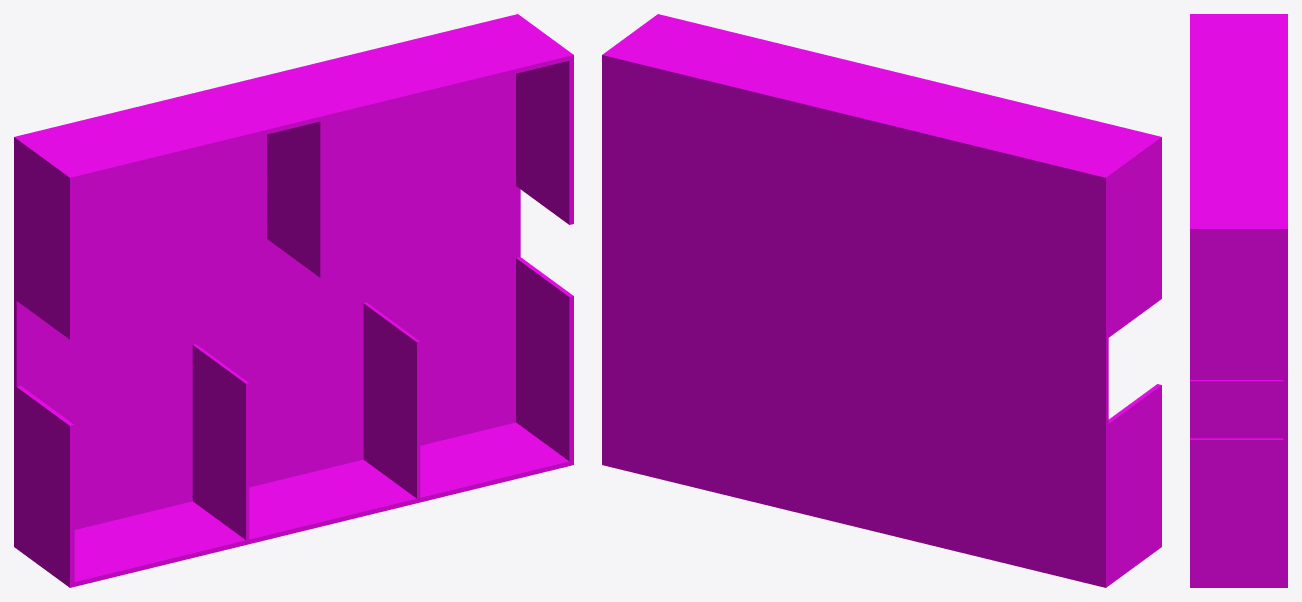
File: PROJECT_Z_Hospital_Wing_Collision_Helpers.glb
3 renders of one model, left to right at view 1: azimuth 30°, elevation 25°; view 2: azimuth 150°, elevation 25°; view 3: azimuth 270°, elevation 25°, orthographic. The views are drawn at different scales.
Parts seen in each view (by area): view 1: UCX_Wing_Floor_00, UCX_Wing_NorthFacade_00, UCX_Wing_SouthFacade_00, UCX_Wing_WestSideLower_00, UCX_Wing_EastSideLower_00, UCX_Wing_WestSideUpper_00, UCX_Wing_RoomDividerS1_00, UCX_Wing_RoomDividerS2_00, UCX_Wing_EastSideUpper_00, UCX_Wing_RoomDividerNW_00; view 2: UCX_Wing_Floor_00, UCX_Wing_NorthFacade_00, UCX_Wing_WestSideUpper_00, UCX_Wing_WestSideLower_00; view 3: UCX_Wing_NorthFacade_00, UCX_Wing_EastSideLower_00, UCX_Wing_EastSideUpper_00, UCX_Wing_RoomDividerS2_00, UCX_Wing_Floor_00, UCX_Wing_RoomDividerS1_00.
Boxes of the visible parts, x1,y1,x2,y2 form: UCX_Wing_Floor_00: (14,14,520,548); UCX_Wing_NorthFacade_00: (19,16,571,181); UCX_Wing_SouthFacade_00: (72,422,571,587); UCX_Wing_WestSideLower_00: (16,386,74,587); UCX_Wing_EastSideLower_00: (516,257,573,465); UCX_Wing_WestSideUpper_00: (16,138,74,339); UCX_Wing_RoomDividerS1_00: (192,344,249,542); UCX_Wing_RoomDividerS2_00: (363,302,420,499); UCX_Wing_EastSideUpper_00: (516,16,573,224); UCX_Wing_RoomDividerNW_00: (267,77,323,277); UCX_Wing_Floor_00: (602,53,1108,587); UCX_Wing_NorthFacade_00: (607,14,1158,174); UCX_Wing_WestSideUpper_00: (1104,136,1161,337); UCX_Wing_WestSideLower_00: (1108,384,1161,585); UCX_Wing_NorthFacade_00: (1190,15,1283,228); UCX_Wing_EastSideLower_00: (1190,438,1283,587); UCX_Wing_EastSideUpper_00: (1190,227,1283,376); UCX_Wing_RoomDividerS2_00: (1190,380,1283,438); UCX_Wing_Floor_00: (1283,14,1287,587); UCX_Wing_RoomDividerS1_00: (1190,377,1283,379).
Size of the model in its own units: 18 by 14 by 3.46.
